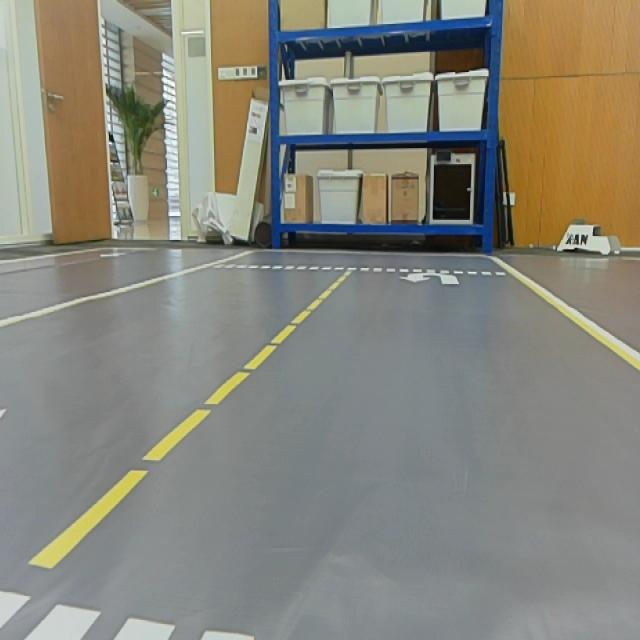left_lane: (29, 267, 355, 574)
right_lane: (0, 250, 248, 330), (487, 252, 640, 377)
